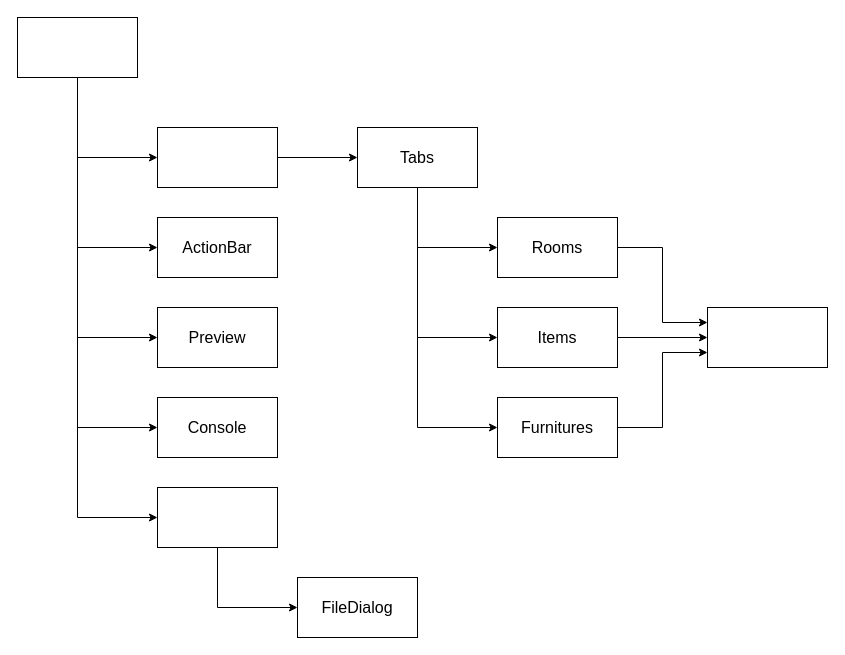
This 845x655 diagram has some shape labels left out. The shapes that lost their labels are listed below. From the top down, each one's centre as x and y in pixels, then its label:
At pixel 77 47: "App".
At pixel 217 157: "Sidebar".
At pixel 767 337: "CreateContainer".
At pixel 217 517: "Inspector".
